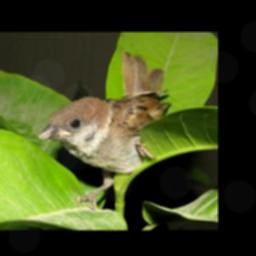Sparrow: (35, 50, 174, 211)
